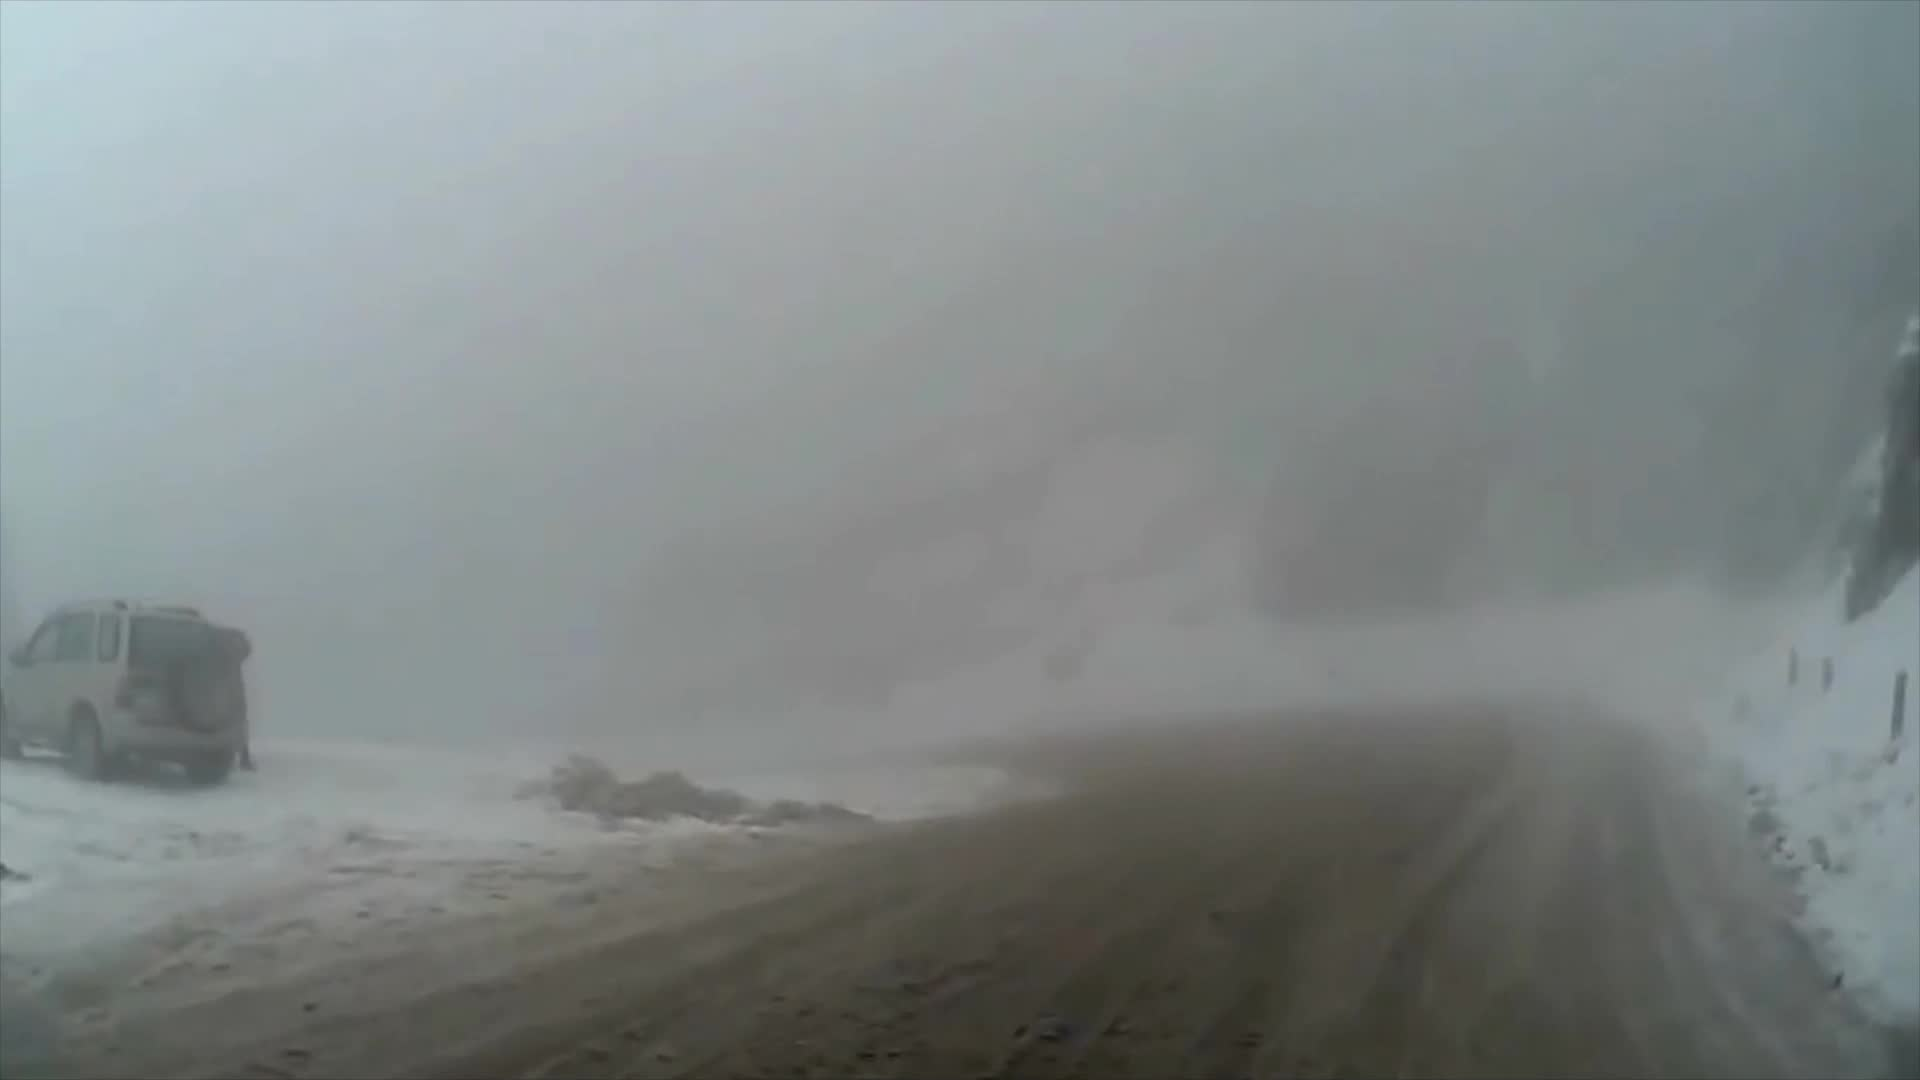vehicle: (1, 599, 239, 789)
